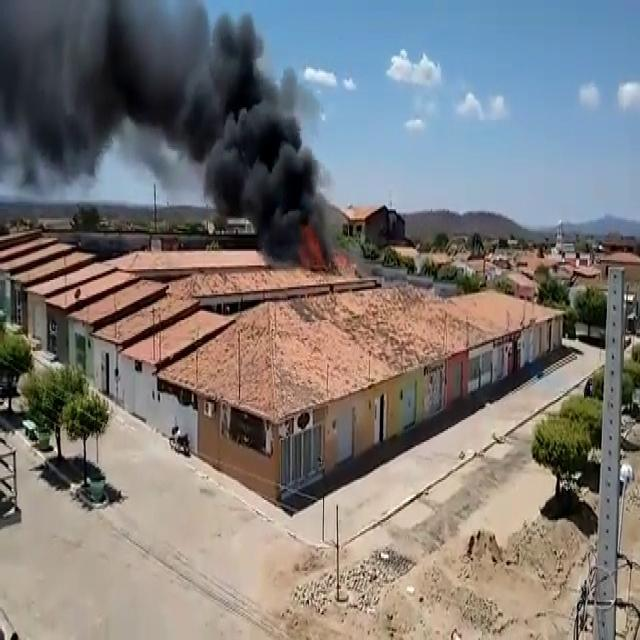Fire: (302, 218, 334, 278)
Smoke: (8, 4, 216, 200), (226, 29, 296, 269)
